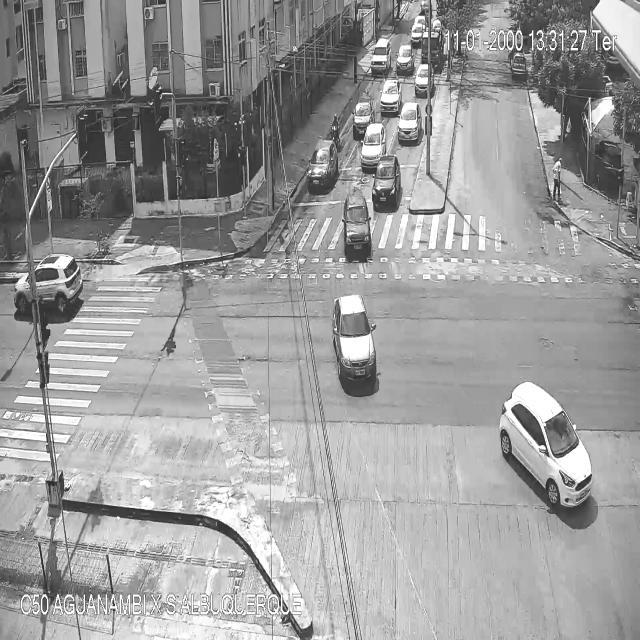Car: (500, 380, 593, 508), (332, 295, 378, 392), (14, 253, 84, 312), (342, 190, 372, 257), (306, 139, 336, 190), (375, 153, 400, 208), (361, 126, 384, 168), (398, 104, 419, 142), (353, 100, 373, 139), (380, 79, 401, 114), (371, 38, 392, 72), (414, 62, 434, 94), (395, 43, 412, 74), (512, 54, 526, 76), (411, 23, 423, 46)
Motorcycle: (332, 115, 338, 140)
Truck: (423, 33, 441, 73)
